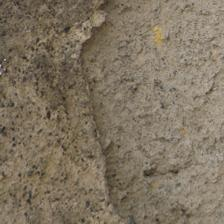Crack: (36, 6, 100, 215)
